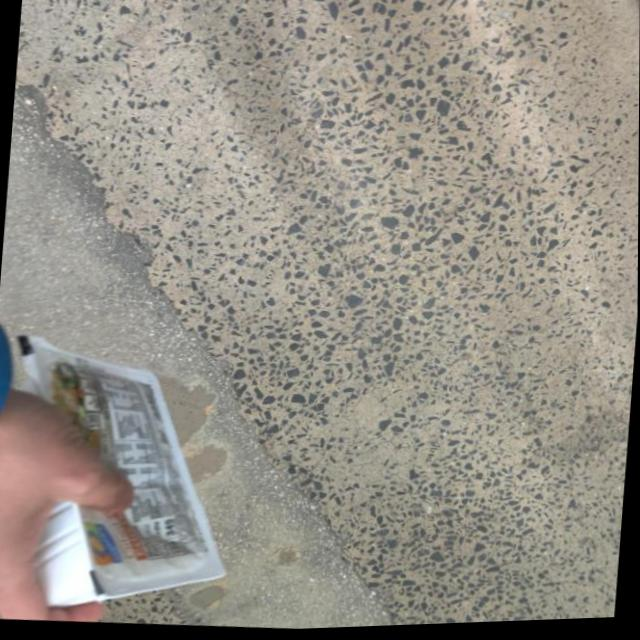Tofu: (0, 328, 239, 618)
